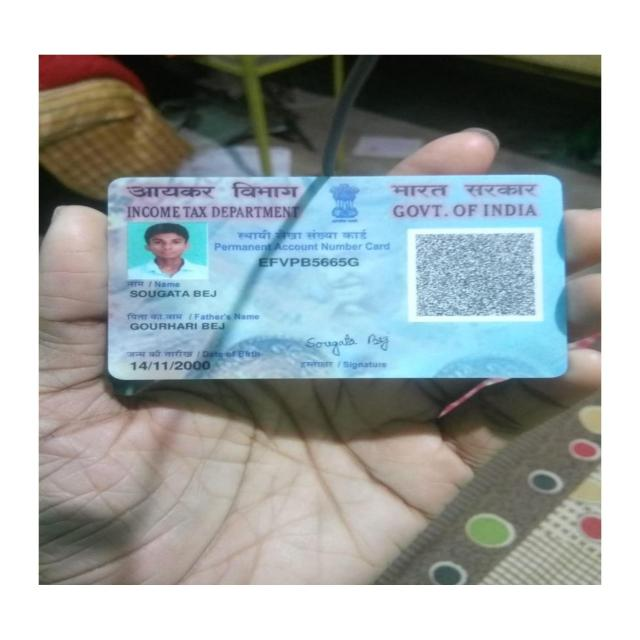pan_card: (114, 179, 561, 377)
